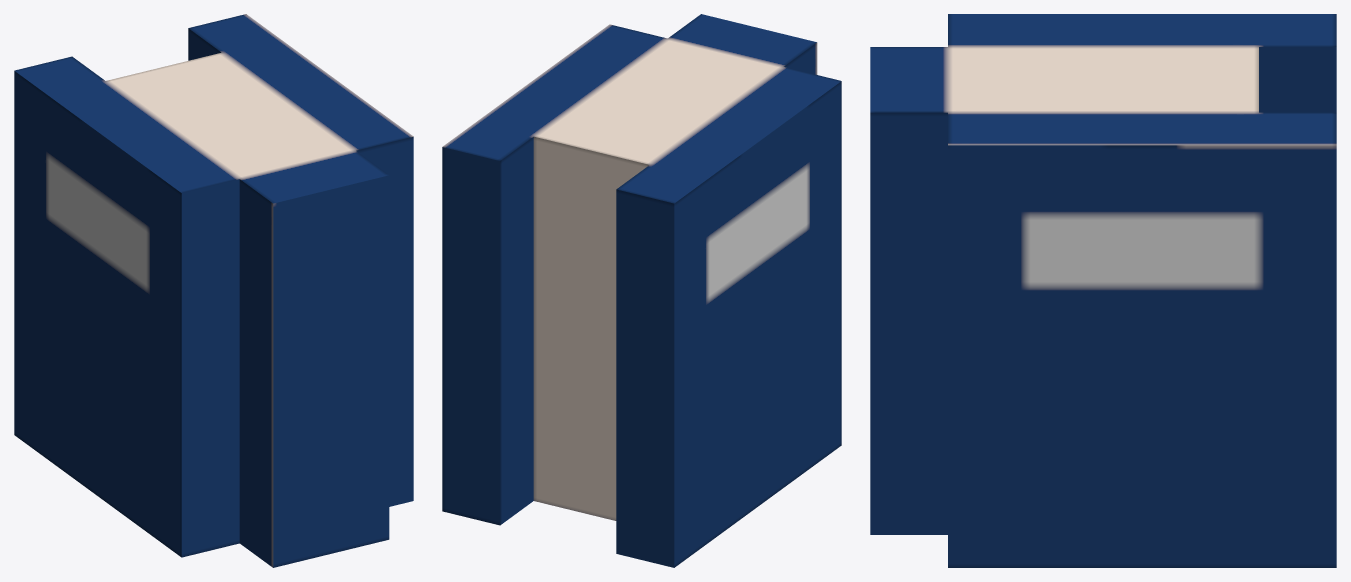
The model's file is BlueBook_6.fbx.
The picture shows the model from 3 angles, left to right: view 1: azimuth 30°, elevation 25°; view 2: azimuth 150°, elevation 25°; view 3: azimuth 270°, elevation 25°; orthographic projection. The views are drawn at different scales.
Visible parts, largest first — view 1: BlueBook_6.001; view 2: BlueBook_6.001; view 3: BlueBook_6.001.
Boxes of the visible parts, x1,y1,x2,y2 form: BlueBook_6.001: (14, 14, 413, 567); BlueBook_6.001: (442, 14, 841, 567); BlueBook_6.001: (870, 14, 1336, 567).
Size of the model in its own units: 0.4 by 0.6 by 0.6.
1 material, 1 textured.
